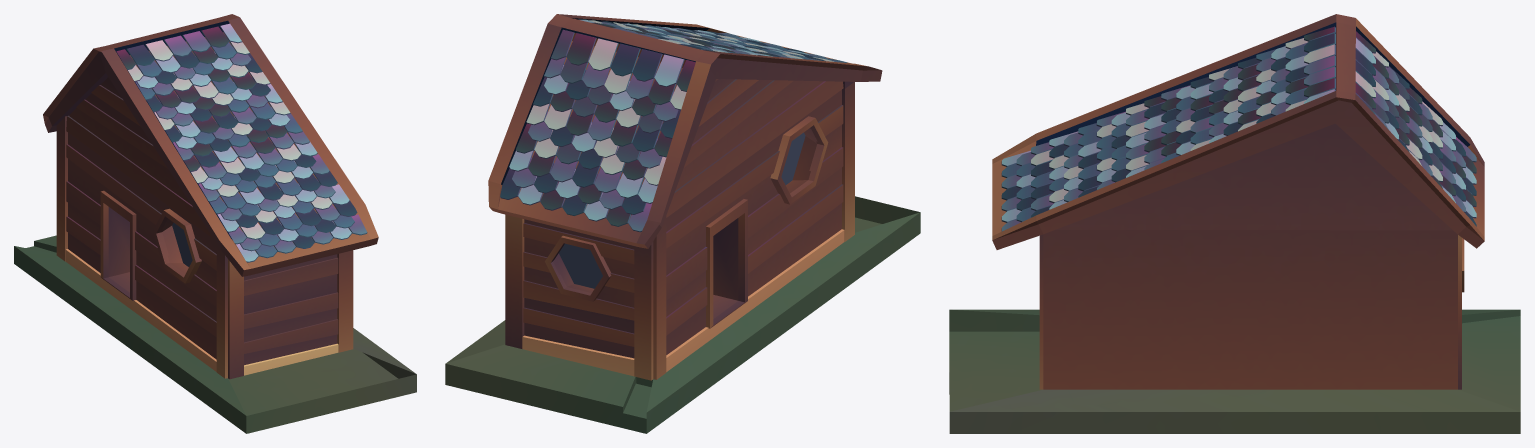
The model's file is House_Birdhouse01.fbx.
The picture shows the model from 3 angles, left to right: view 1: azimuth 30°, elevation 25°; view 2: azimuth 150°, elevation 25°; view 3: azimuth 270°, elevation 25°; orthographic projection. The views are drawn at different scales.
Visible parts, largest first — view 1: Cube.002; view 2: Cube.002; view 3: Cube.002.
Boxes of the visible parts, box(x1,y1,x2,y2) form: Cube.002: box(14, 14, 416, 433); Cube.002: box(445, 14, 920, 433); Cube.002: box(949, 14, 1520, 433).
Bounding box in the file's own units: 275 × 407 × 648.
